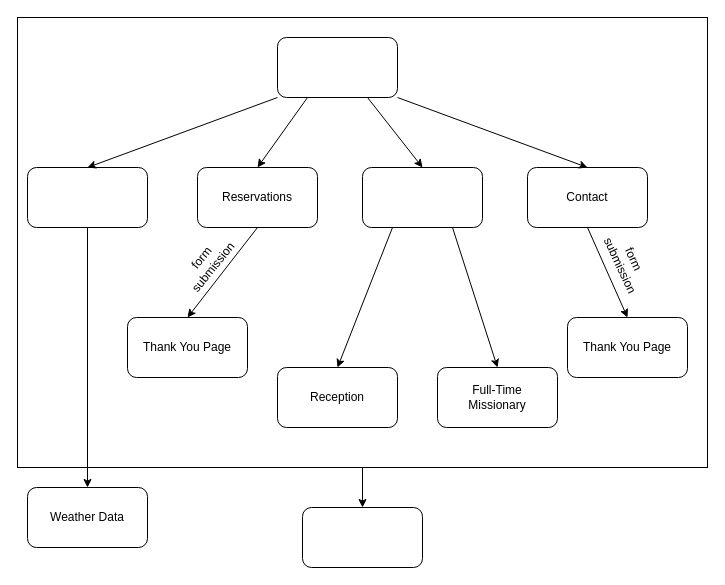
This 725x585 diagram has some shape labels left out. The shapes that lost their labels are listed below. From the top down, each one's centre as x and y in pixels, then its label:
the point at 337,67: Home
the point at 87,197: Temple
the point at 422,197: Services
the point at 362,537: Social Media Pages
